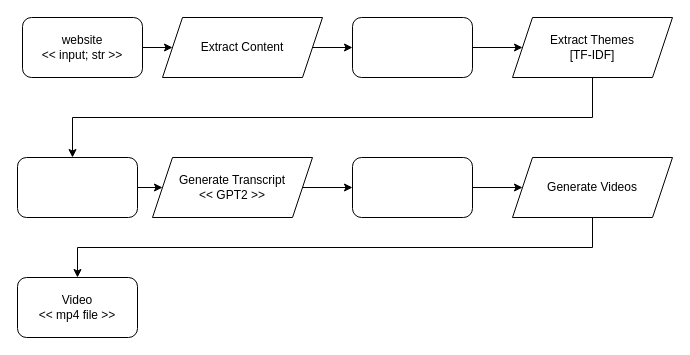
The diagram is 690 pixels wide and 355 high, and some of its shapes have lost their labels. The centre of each missing label's shape, as x and y in pixels:
"Themes << List[str] >>" goes at point (77, 187).
"Transcripts << List[str] >>" goes at point (412, 187).
"Website content << str >>" goes at point (412, 47).
